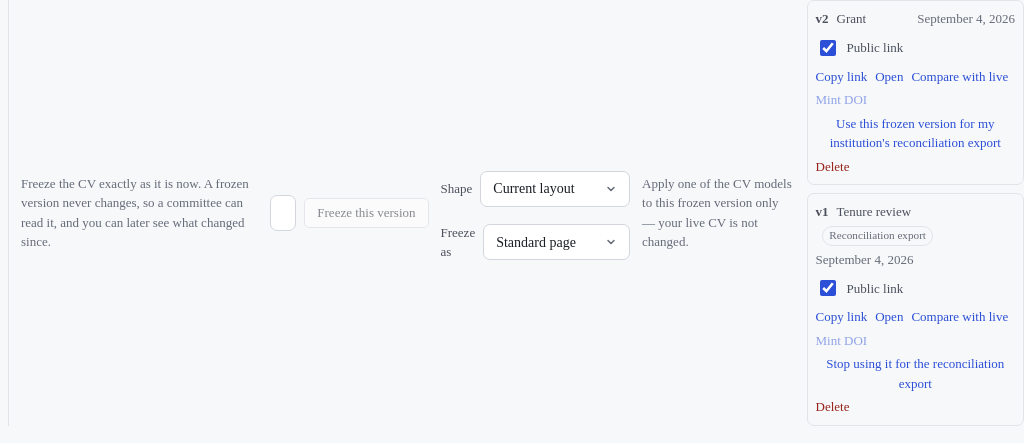
VersionsControls › designates a PUBLIC version for the institution reconciliation export, tags it, clears the previous one locally, and undesignates
Check: the text "Grant" is shown, box 837,11 -> 866,26
Check: the number of elements with test id "reconciliation-tag" is 1, box 822,226 -> 933,246
Click the button "Use this frozen version for my institution's reconciliation export": click(915, 133) 816,114 -> 1015,152
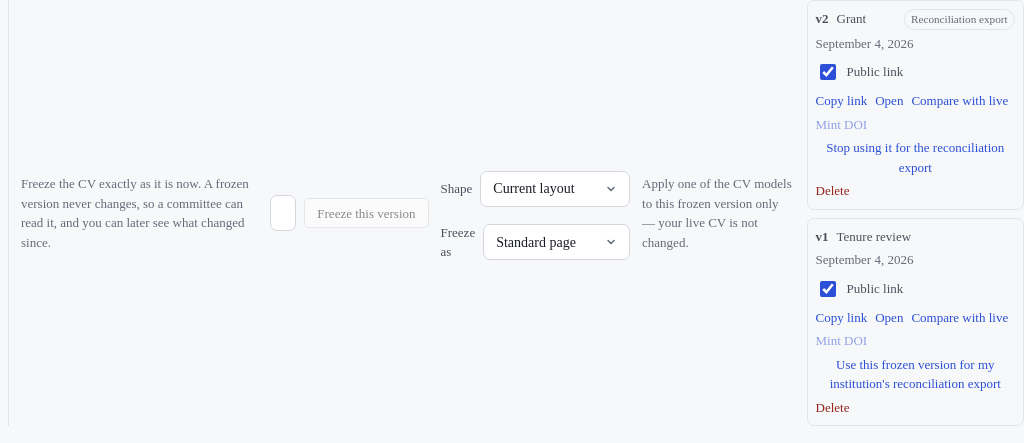
Check: the number of elements with test id "reconciliation-tag" is 1, box 904,9 -> 1015,30
Check: the element with test id "version-row" no longer shows "Reconciliation export"
# Undesignate v2.
Click the button "Stop using it for the reconciliation export": click(915, 158) 816,138 -> 1015,177
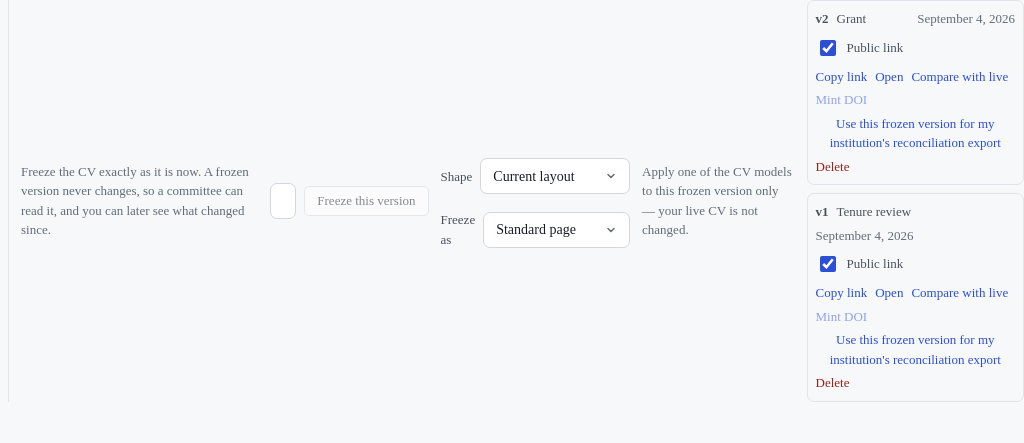
Check: no elements with test id "reconciliation-tag" are shown
